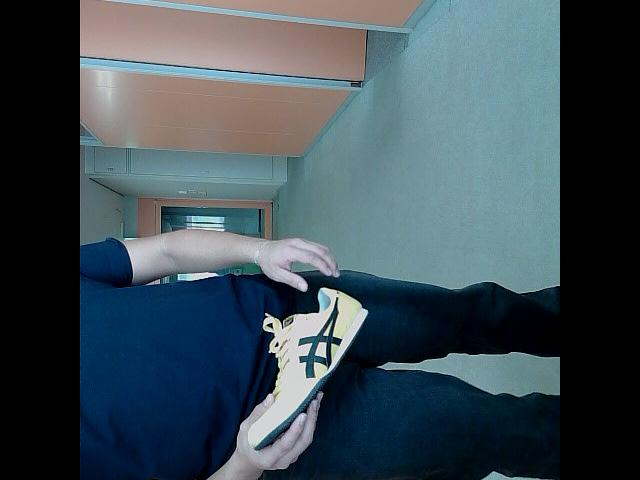Shoes: (240, 285, 384, 457)
